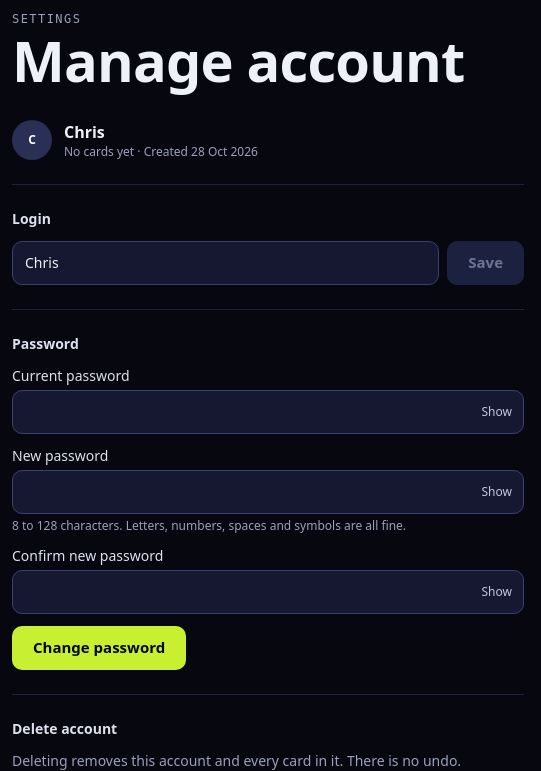
ManageAccount › Login section › a validation_failed answer is the login-length message on the field
The width and height of the screenshot is (541, 771).
Step 1. Type "2" into the field named "New login" → {"x": 226, "y": 263}, box top-left (12, 241), bottom-right (439, 285)
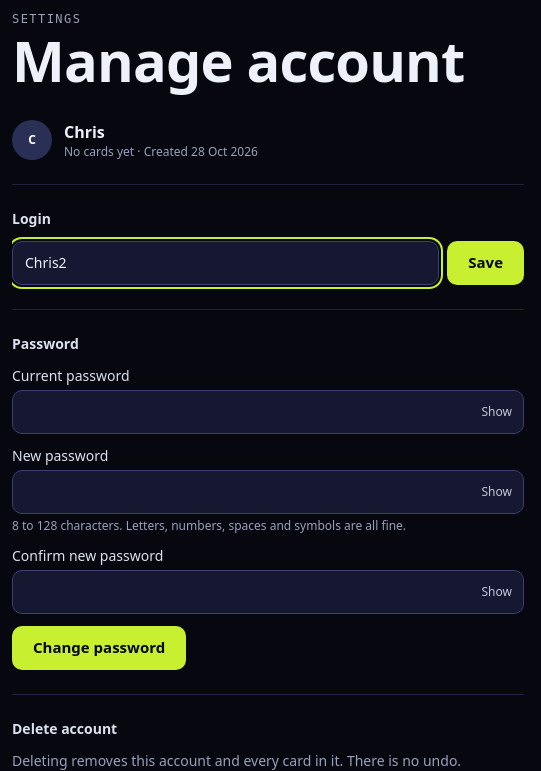
Step 2. Click the button "Save" → {"x": 486, "y": 263}, box top-left (447, 241), bottom-right (524, 285)
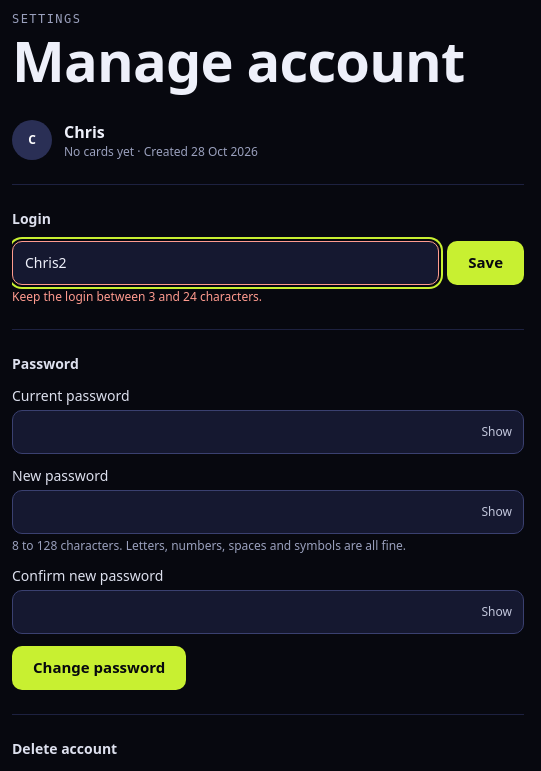
Now the message reads "Keep the login between 3 and 24 characters.", box top-left (12, 288), bottom-right (262, 305)
